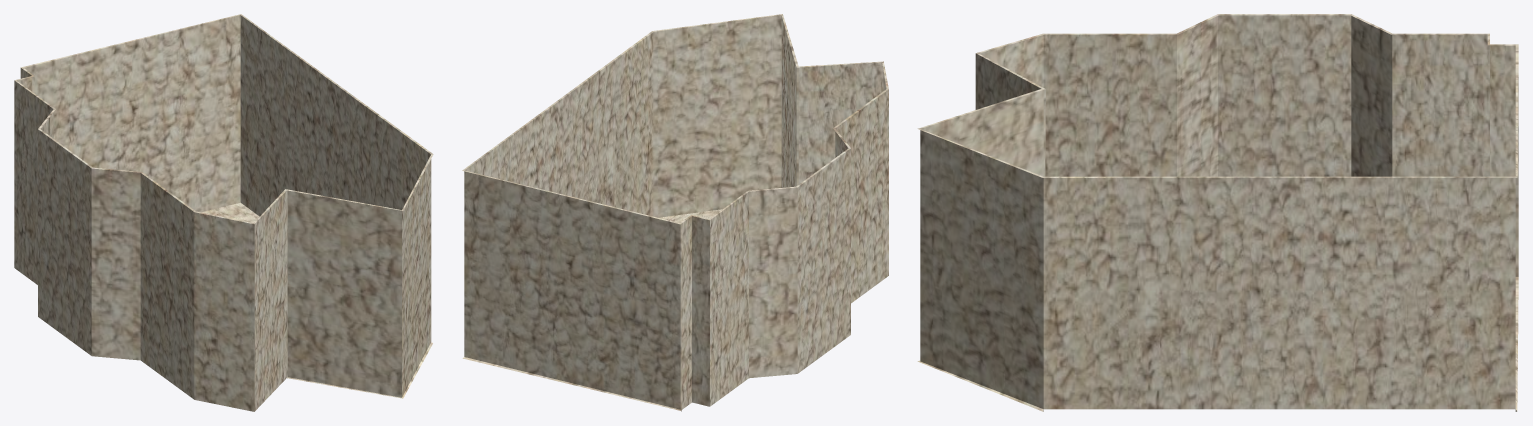
Rendered from wall 1.fbx.
3 renders of one model, left to right at view 1: azimuth 30°, elevation 25°; view 2: azimuth 150°, elevation 25°; view 3: azimuth 270°, elevation 25°, orthographic. The views are drawn at different scales.
Parts seen in each view (by area): view 1: Floor; view 2: Floor; view 3: Floor.
Boxes of the visible parts, x1,y1,x2,y2 form: Floor: [14, 14, 433, 411]; Floor: [462, 14, 888, 411]; Floor: [917, 14, 1518, 411].
Size of the model in its own units: 378 by 253 by 586.
